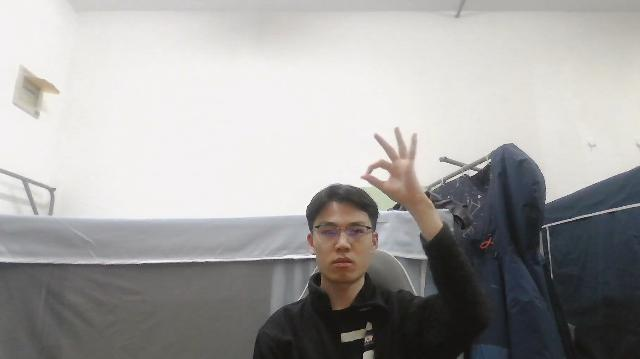ok: (357, 127, 428, 211)
